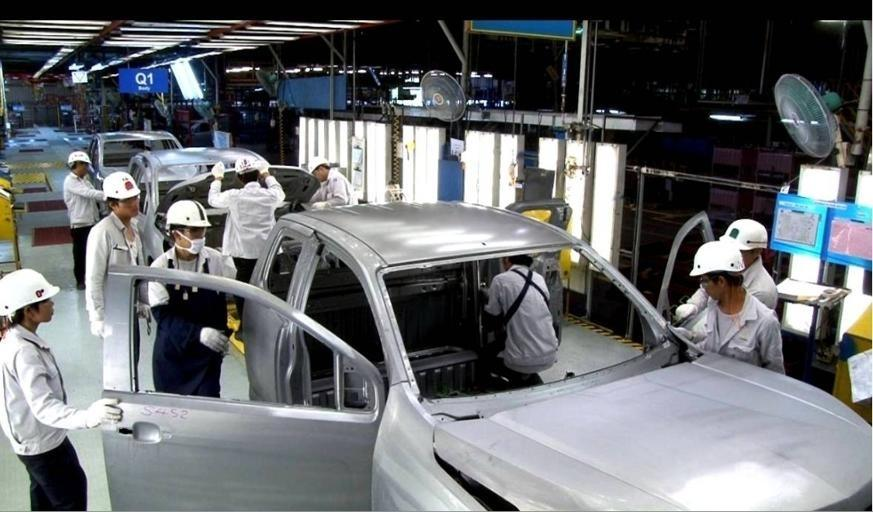capacete: (0, 264, 59, 312), (685, 242, 750, 282), (159, 198, 215, 231), (100, 174, 142, 200), (233, 154, 263, 176), (65, 150, 97, 163), (308, 155, 330, 171)
pessoa: (0, 261, 92, 512), (157, 198, 233, 401), (89, 175, 148, 380), (213, 161, 282, 327), (491, 255, 560, 375)
